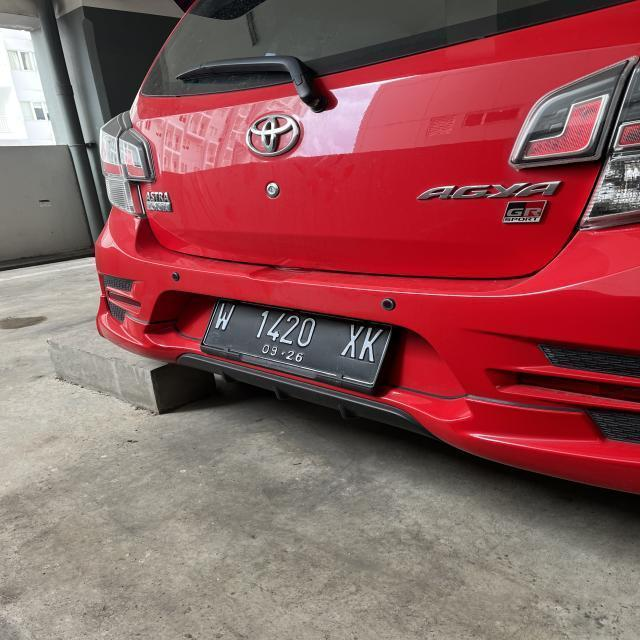0: (298, 318, 316, 346)
1: (258, 307, 268, 338)
2: (281, 310, 299, 347)
4: (267, 310, 280, 343)
K: (360, 324, 380, 360)
W: (214, 301, 236, 328)
X: (342, 320, 360, 358)
